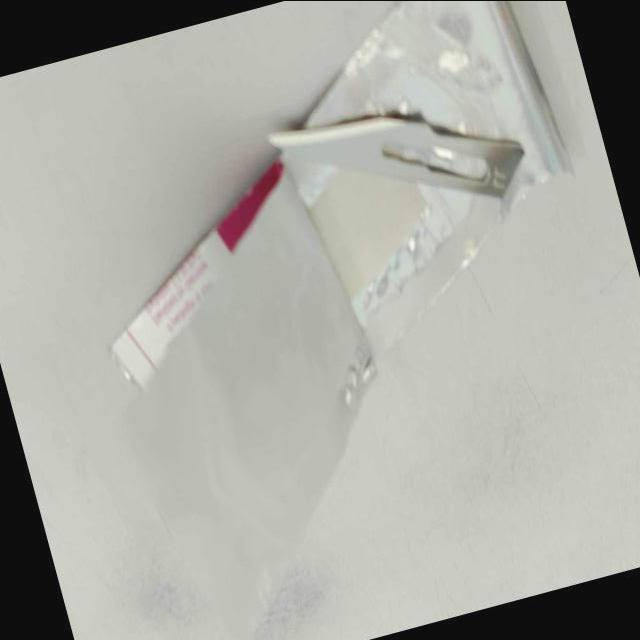Infectious: (108, 157, 285, 390)
Pathological: (2, 2, 636, 637)
Sharps: (107, 1, 568, 394), (266, 111, 524, 198)
